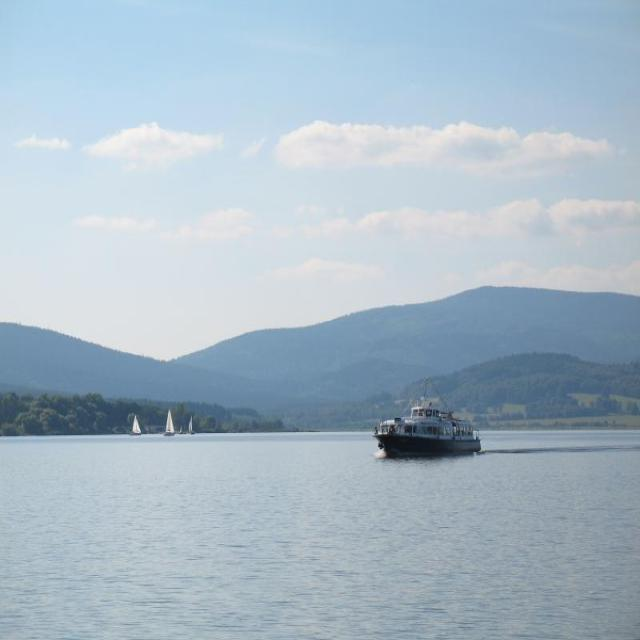passenger ship: (367, 376, 493, 466)
